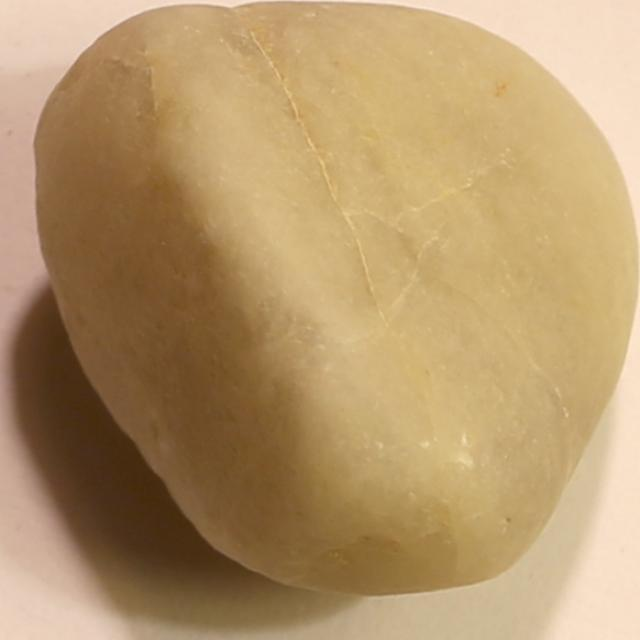stone: (28, 4, 640, 592)
